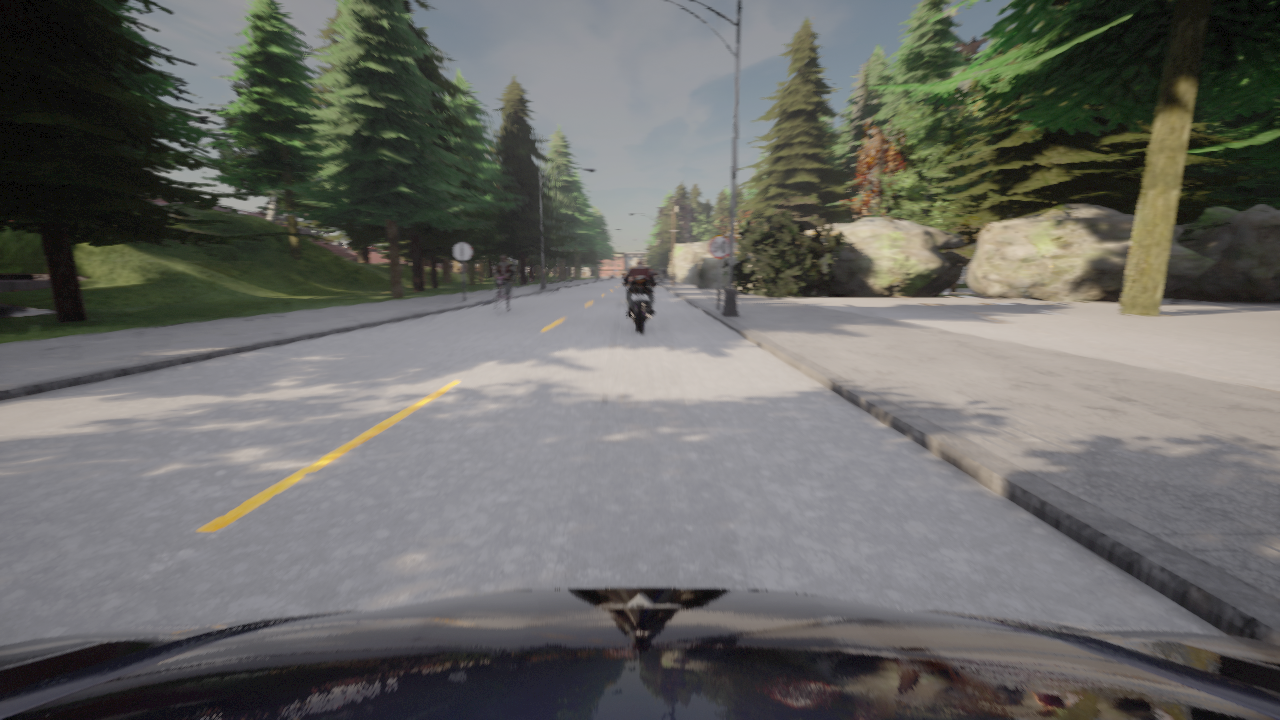cyclist: (0, 588, 1279, 719), (621, 274, 657, 332), (495, 276, 511, 315)
pedestrian: (660, 265, 667, 285)
